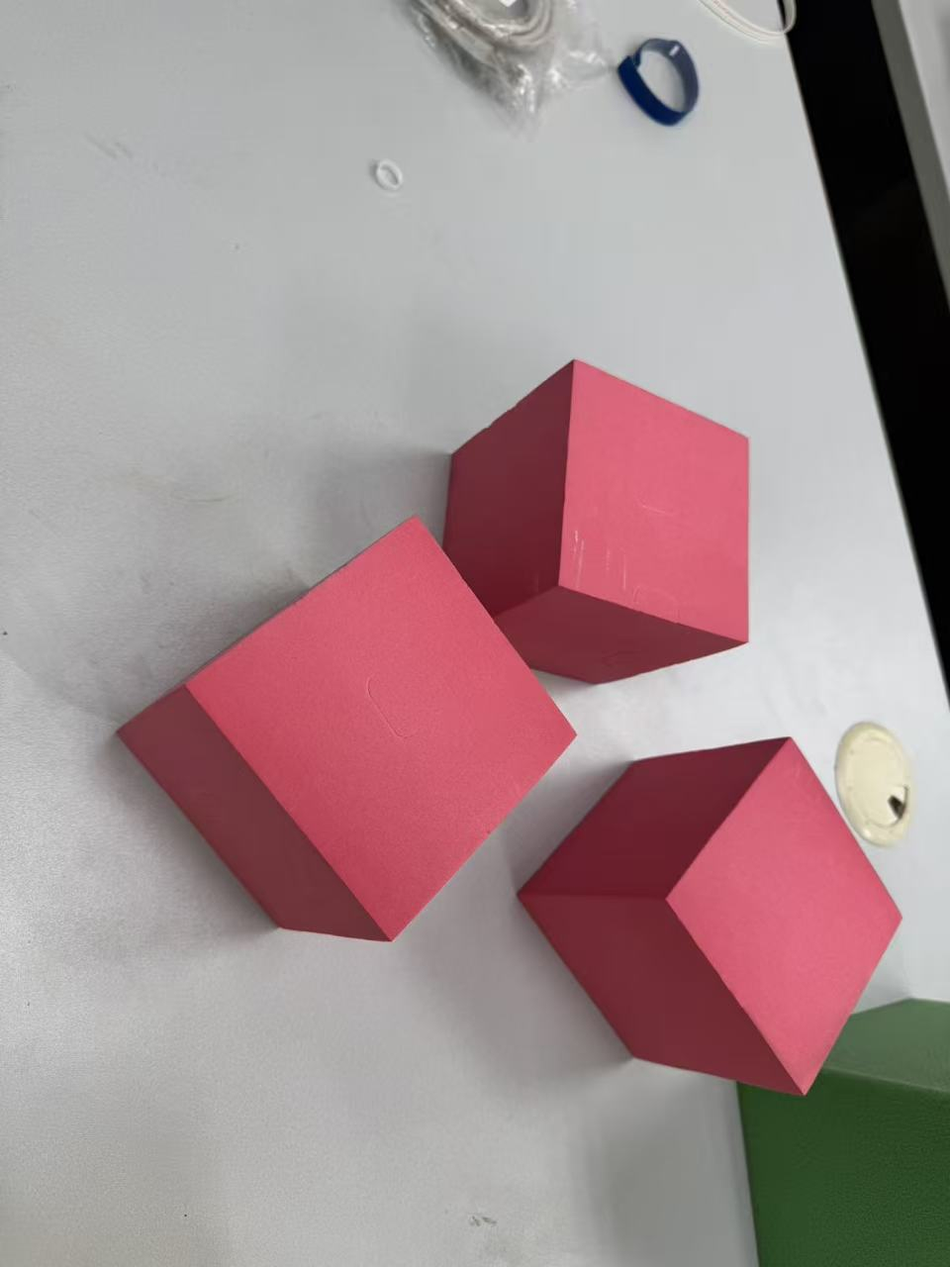red_small: (104, 515, 574, 942), (515, 734, 903, 1098), (440, 360, 749, 684)
